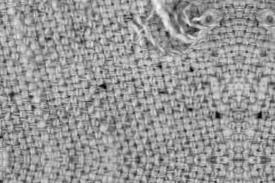snag: (132, 0, 220, 66)
